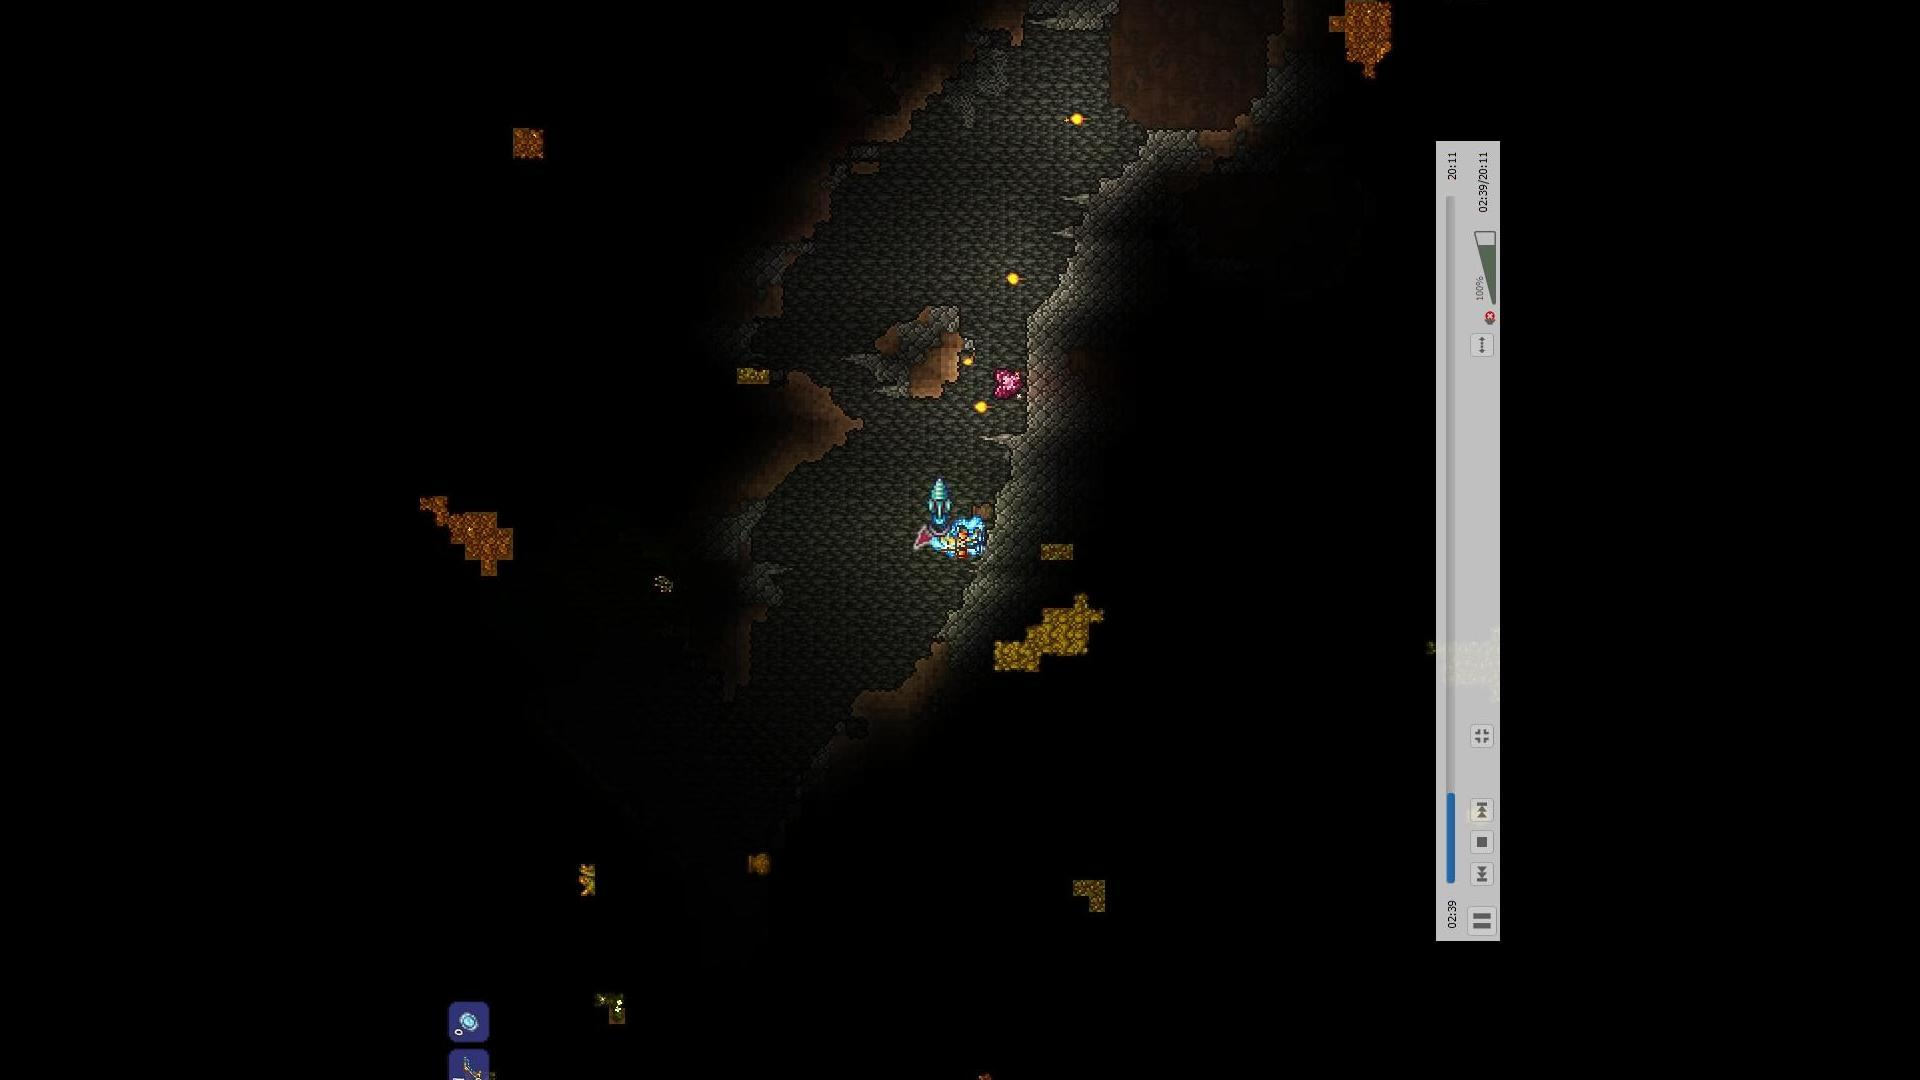lifeC: (992, 365, 1026, 401)
pot: (741, 851, 775, 876)
